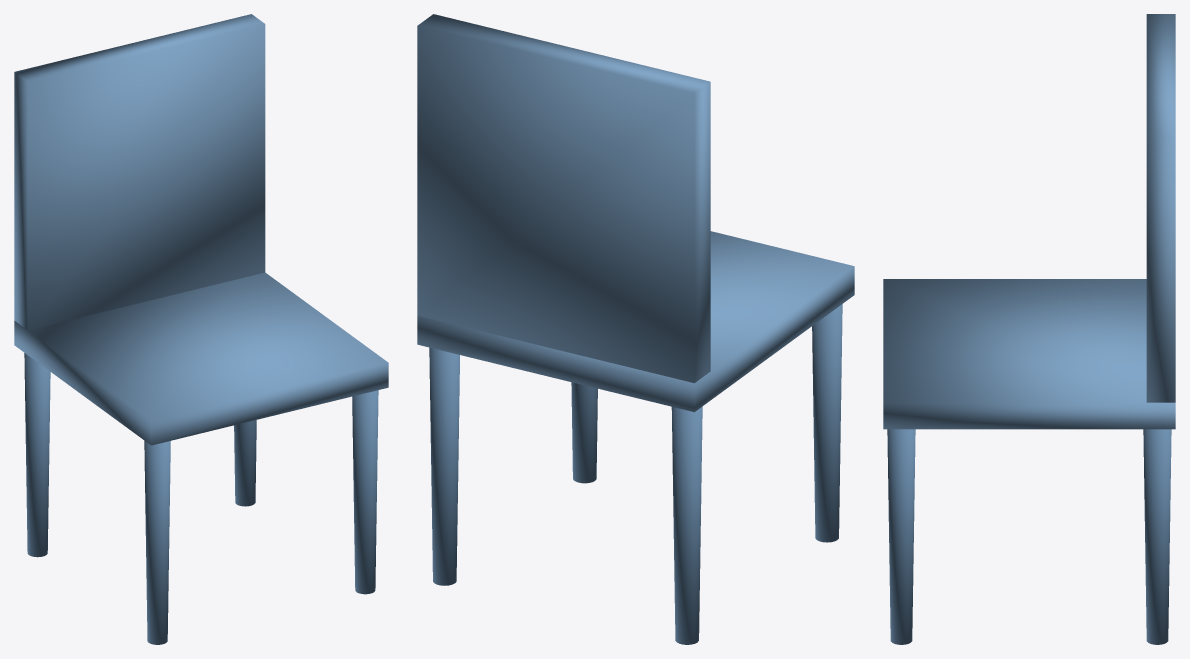
The model's file is chair.glb.
3 views of the same model, side by side, from view 1: azimuth 30°, elevation 25°; view 2: azimuth 150°, elevation 25°; view 3: azimuth 270°, elevation 25° (orthographic). The views are drawn at different scales.
Visible parts, largest first — view 1: back, seat, leg_-0.35_0.35, leg_0.35_0.35, leg_-0.35_-0.35, leg_0.35_-0.35; view 2: back, seat, leg_-0.35_-0.35, leg_0.35_-0.35, leg_-0.35_0.35, leg_0.35_0.35; view 3: seat, back, leg_0.35_0.35, leg_0.35_-0.35.
Part boxes in pixels (x1,y1,x2,y2): back: (14,14,265,330); seat: (14,272,388,445); leg_-0.35_0.35: (144,440,170,644); leg_0.35_0.35: (352,390,378,594); leg_-0.35_-0.35: (24,353,50,557); leg_0.35_-0.35: (234,420,256,506); back: (417,14,710,383); seat: (417,231,854,412); leg_-0.35_-0.35: (671,406,702,644); leg_0.35_-0.35: (429,347,459,585); leg_-0.35_0.35: (812,304,842,542); leg_0.35_0.35: (571,382,597,483); seat: (883,279,1175,429); back: (1146,14,1175,402); leg_0.35_0.35: (887,429,915,644); leg_0.35_-0.35: (1143,429,1171,644).
Bounding box in the file's own units: 0.8 × 1.54 × 0.8.
